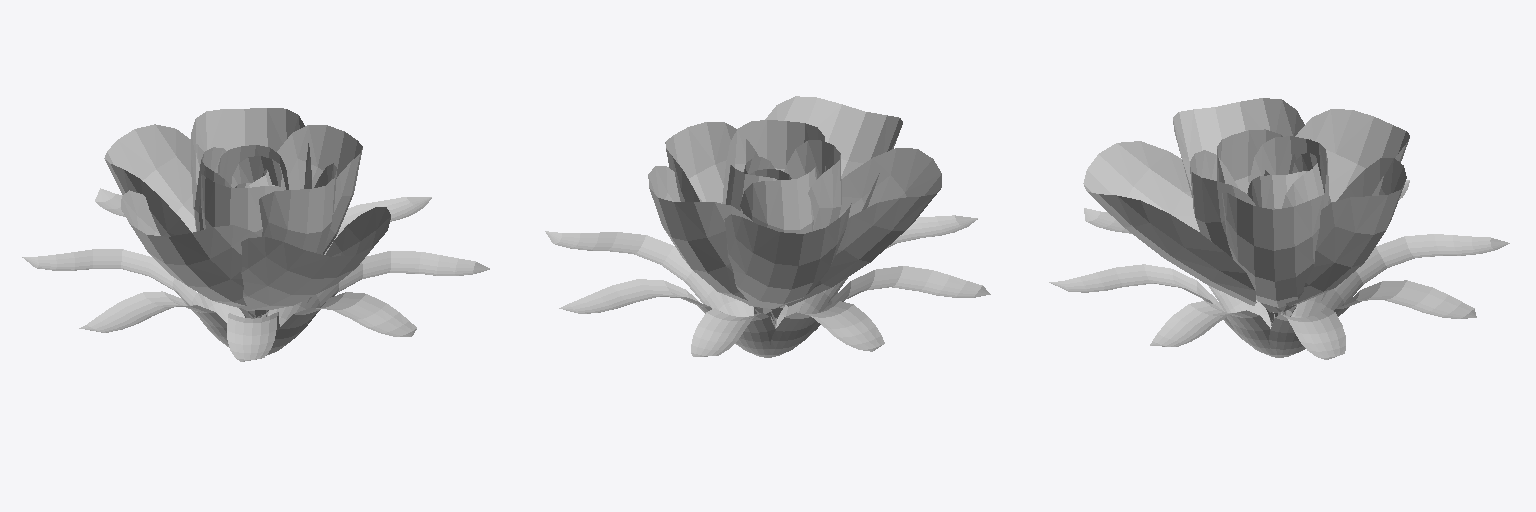
File: FlowerTopModel_03_seq_0029.obj
3 views of the same model, side by side, from view 1: azimuth 30°, elevation 25°; view 2: azimuth 150°, elevation 25°; view 3: azimuth 270°, elevation 25° (orthographic).
Parts seen in each view (by area): view 1: FlowerTopModel_03; view 2: FlowerTopModel_03; view 3: FlowerTopModel_03.
Part boxes in pixels (x1,y1,x2,y2): FlowerTopModel_03: (22, 108, 489, 361); FlowerTopModel_03: (545, 96, 990, 357); FlowerTopModel_03: (1049, 98, 1509, 359).
Size of the model in its own units: 760 by 360 by 760.